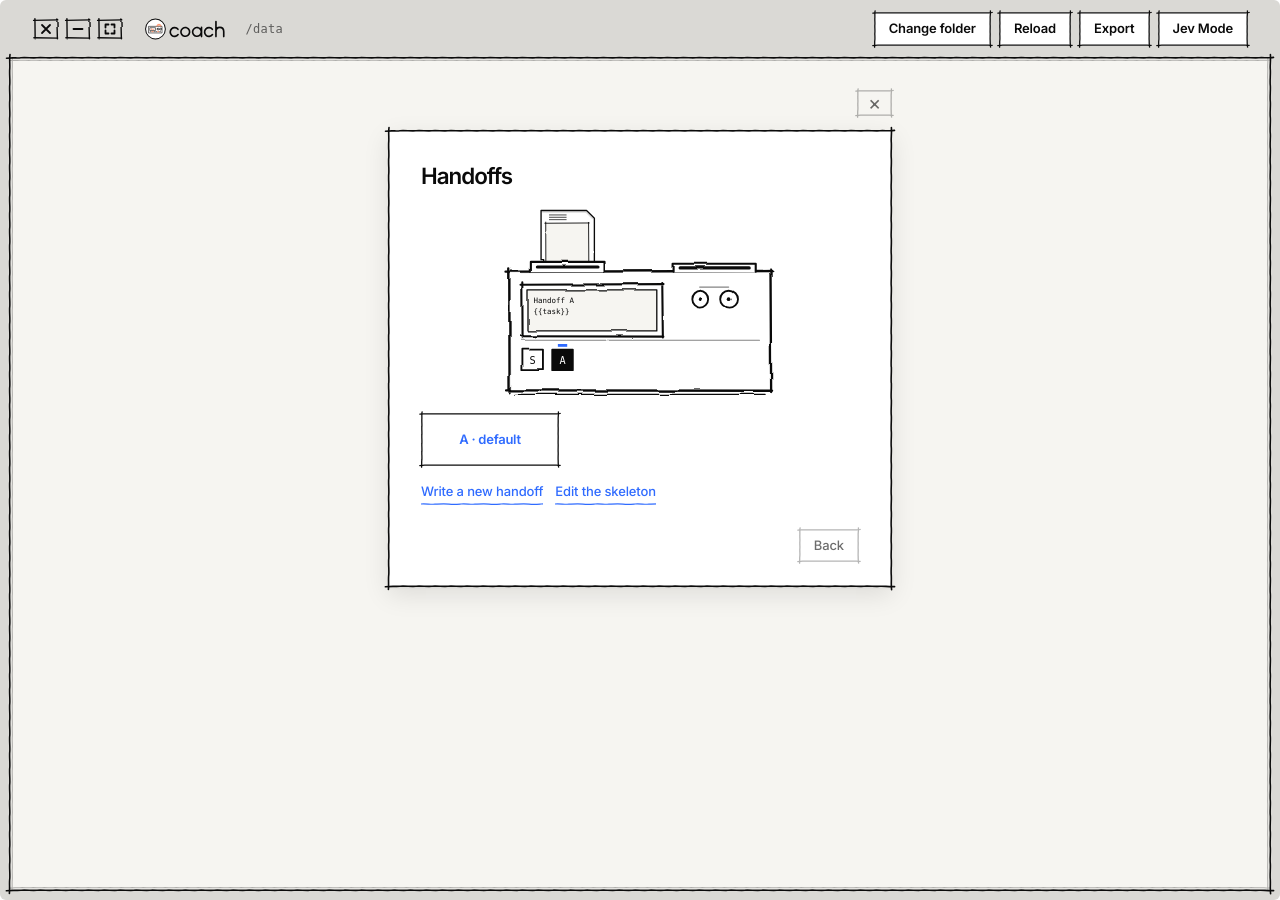
Scenario: the handoff editor › Covers R18. is a plain mono text field naming the three slots, on a pane with focus in the field
Step 1. Click the button "A · default" → click(490, 439), box [421,412,559,466]
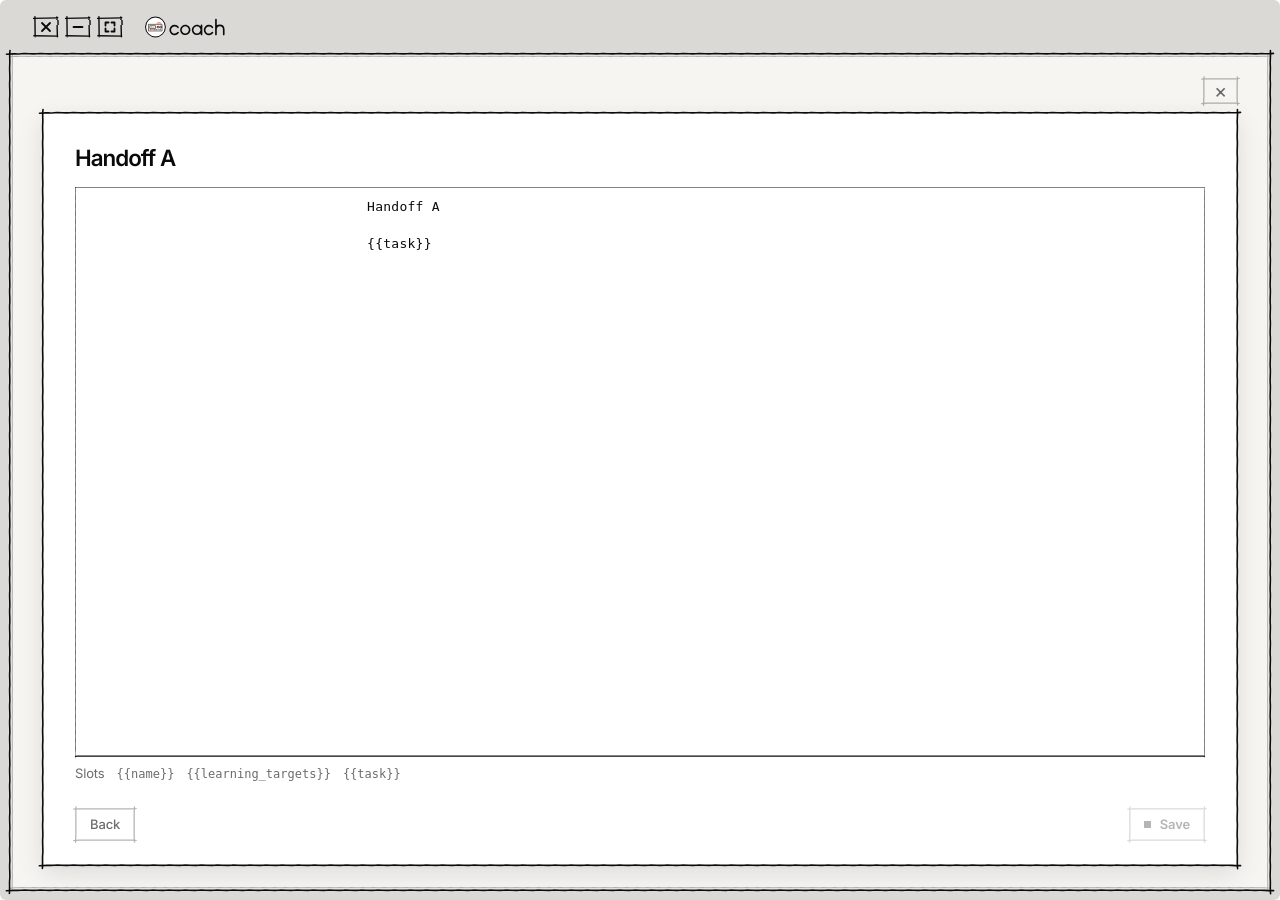
Now the heading "Handoff A" is shown, box [75,144,175,171]
Now the element with class "handoff-slots" shows "{{name}}", box [117,767,174,781]
Now the element with class "handoff-slots" shows "{{learning_targets}}", box [186,767,331,781]
